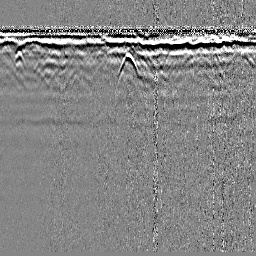cavity: (116, 52, 140, 78)
